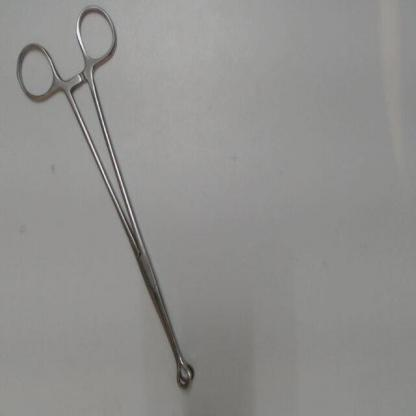8 Babcock Tissue Forceps: (10, 1, 200, 396)
